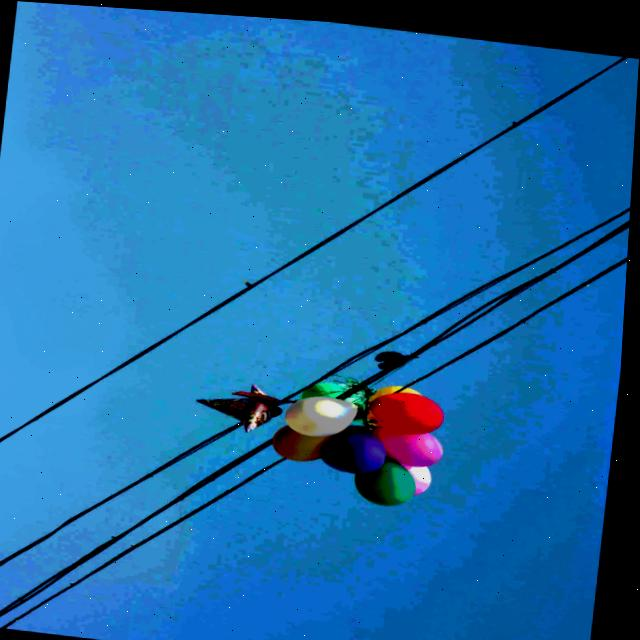obstruction: (290, 371, 447, 500), (202, 381, 291, 428)
wires: (185, 48, 630, 326), (0, 450, 294, 628), (405, 197, 632, 384), (83, 430, 280, 565), (0, 459, 173, 571), (0, 340, 163, 446), (338, 325, 425, 372)
